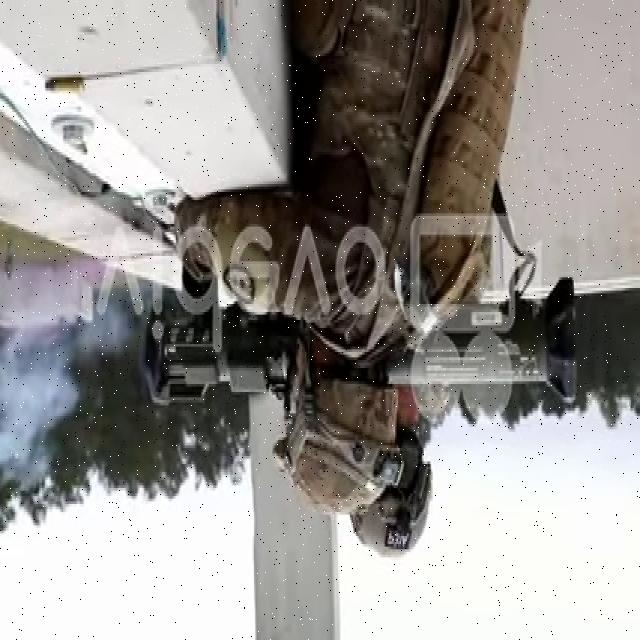bazooka: (140, 260, 582, 423)
